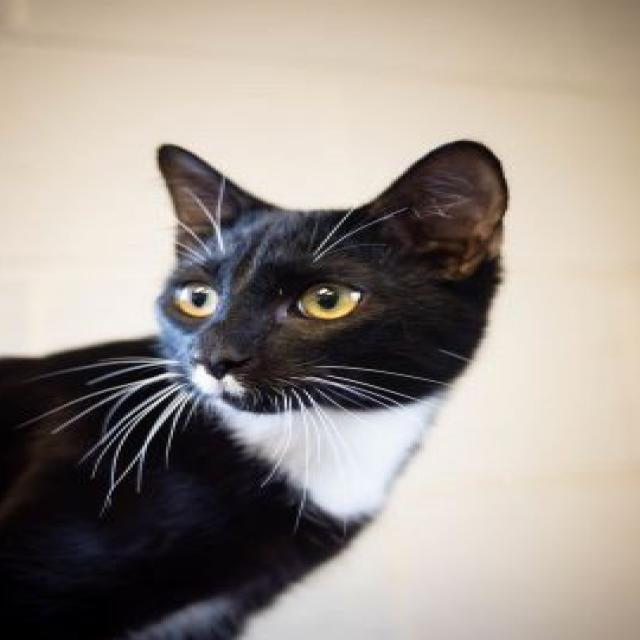Tuxedo: (0, 134, 514, 640)
